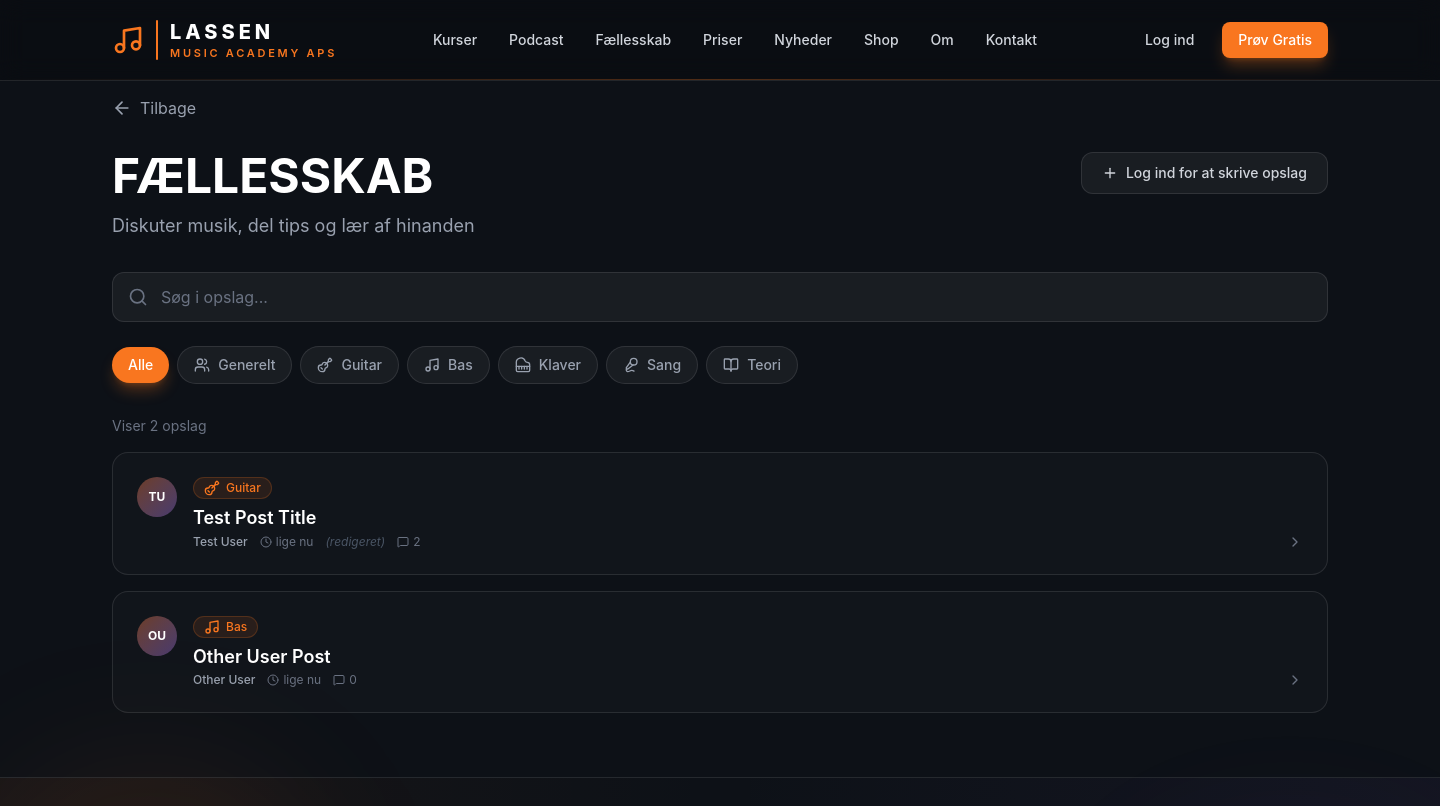
Test case: Community Page › Search and Filter › shows all posts when "Alle" category is selected
Expected: the heading "Test Post Title" is shown, [193, 507, 316, 528]
Click the button "Bas": (448, 365) [407, 346, 490, 384]
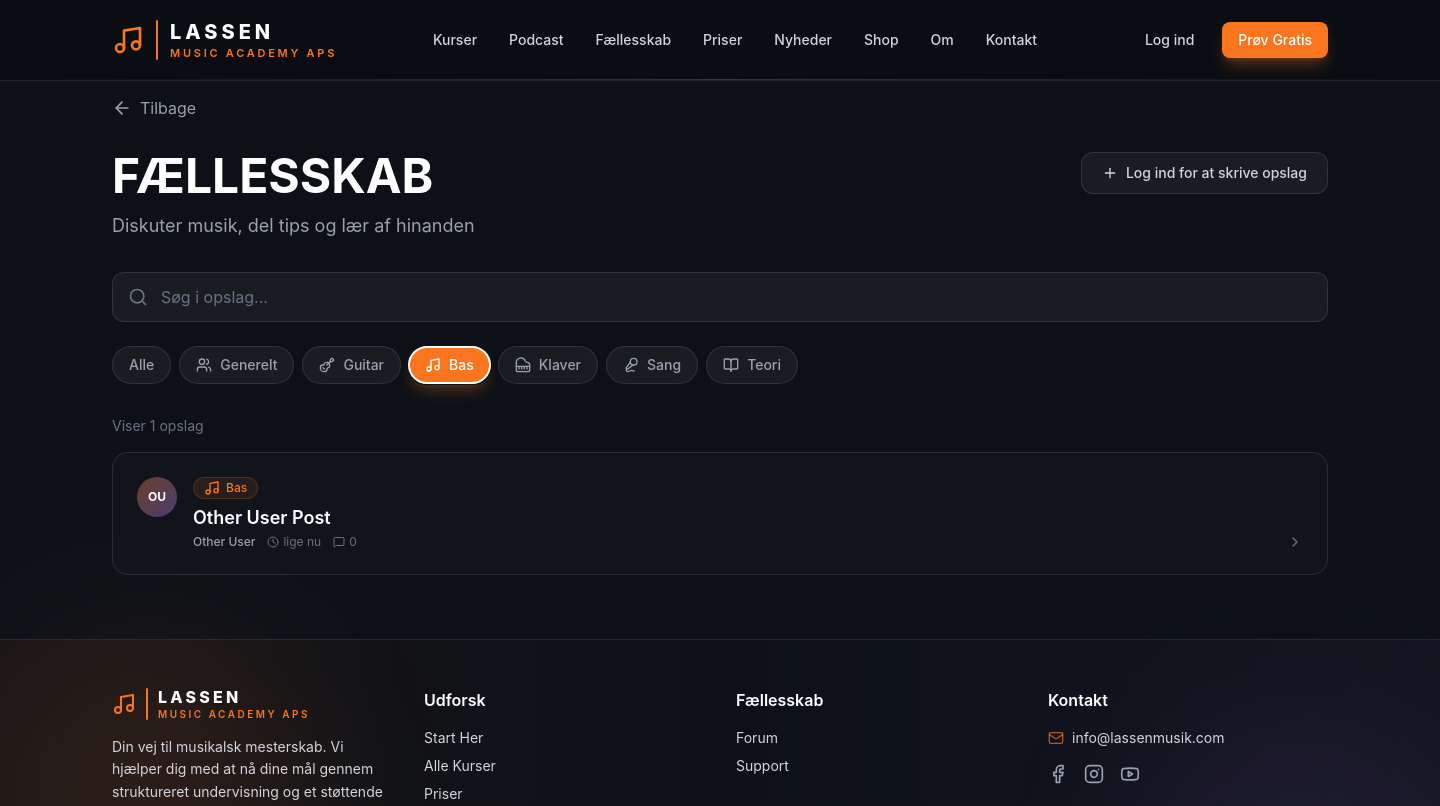
Expected: the button "Test Post Title" is gone
Note: Click "Alle" to show all
Click the button "Alle": (142, 365) [112, 346, 171, 384]
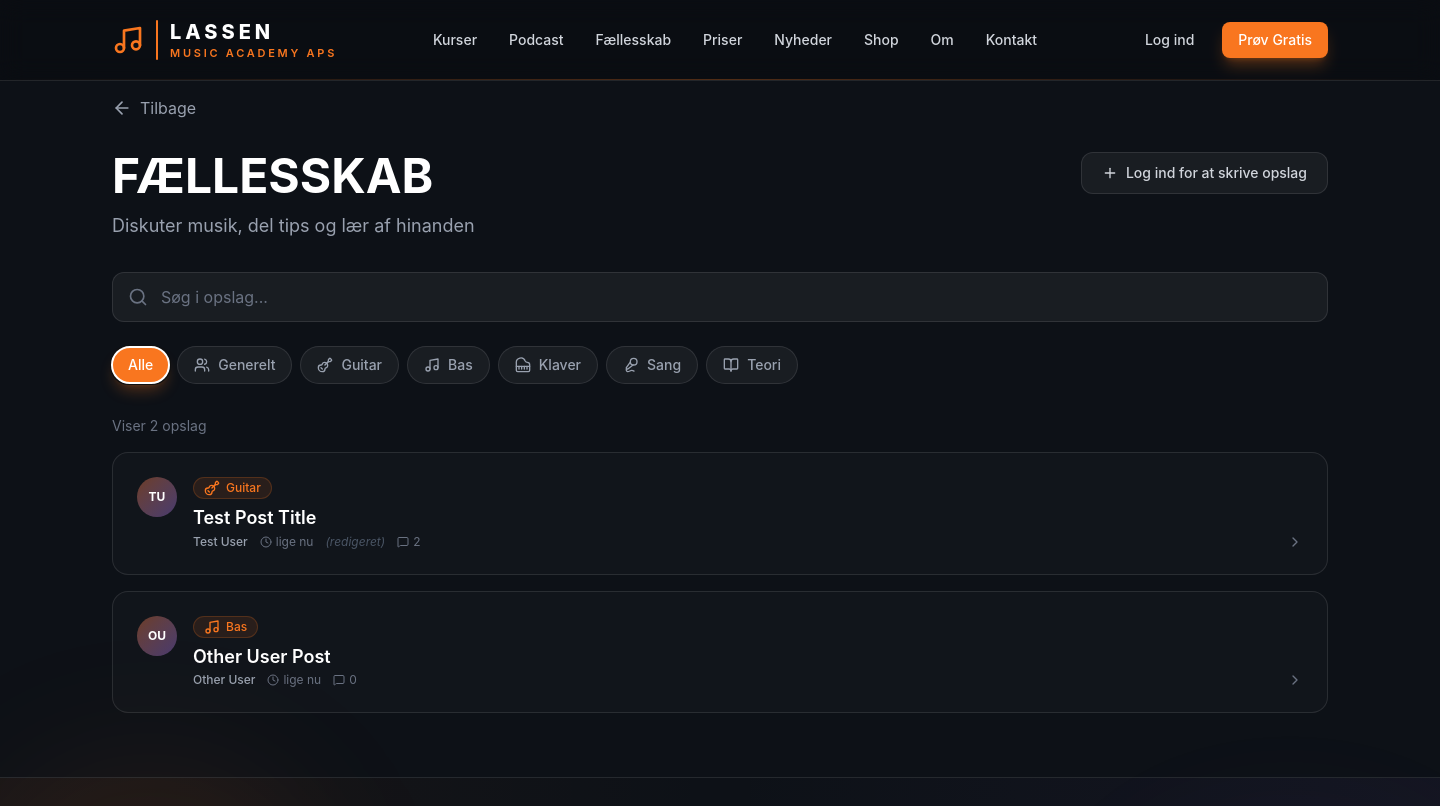
Expected: the heading "Other User Post" is shown, [193, 646, 331, 666]
Expected: the heading "Test Post Title" is shown, [193, 507, 316, 528]
